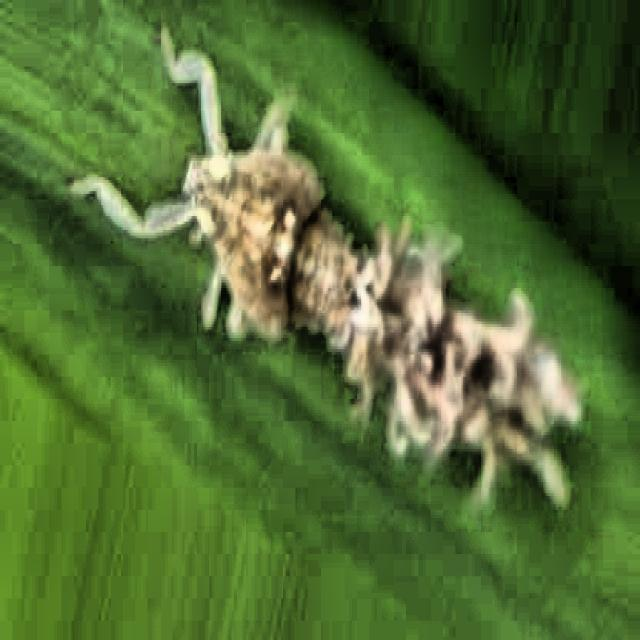Pyrilla-perpusilla: (28, 0, 640, 640)
